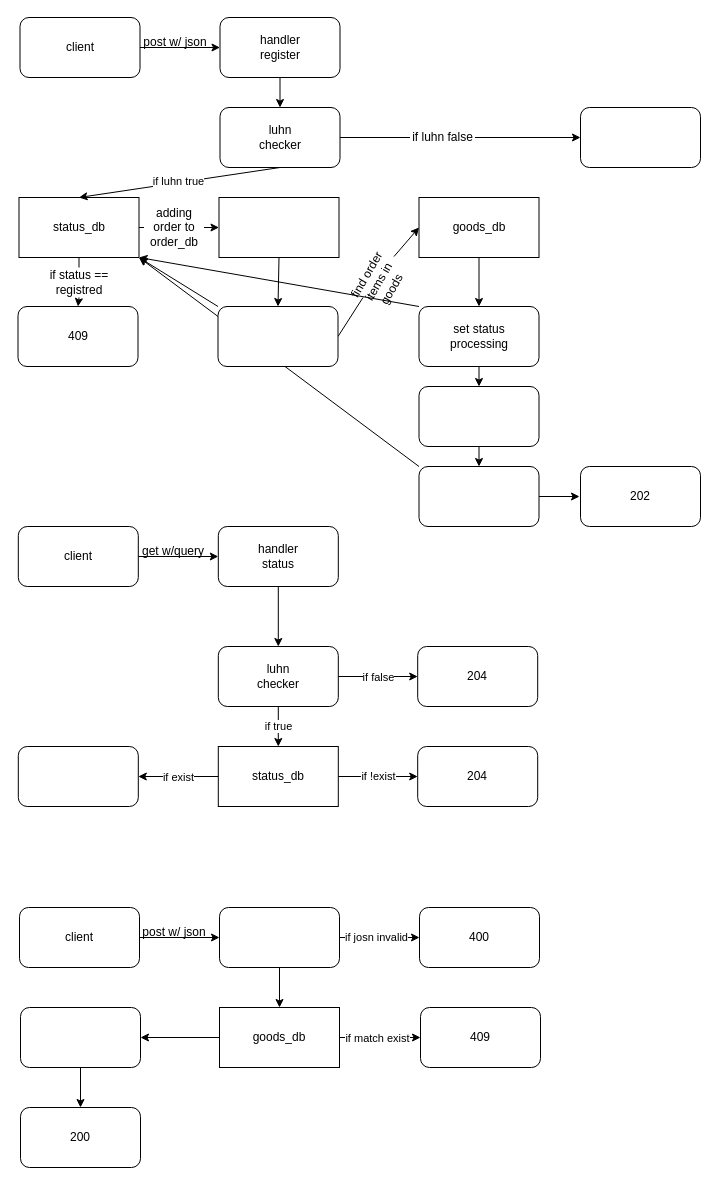
This 718x1185 diagram has some shape labels left out. Here are the shapes that lost their labels. From the top down, the centre of each, then its label:
At point 640,137: "400 + status invalid".
At point 278,227: "orders_db".
At point 277,336: "set status registred".
At point 478,416: "count accrual".
At point 478,496: "set status processed and accrual".
At point 77,776: "200 w/ json".
At point 279,937: "handler goods".
At point 80,1037: "register goods".
